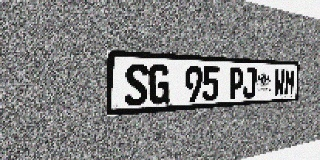5: (202, 66, 219, 101)
9: (185, 65, 203, 102)
G: (149, 64, 170, 105)
J: (243, 67, 256, 99)
M: (284, 69, 295, 96)
P: (229, 67, 243, 99)
S: (125, 63, 148, 106)
W: (274, 68, 285, 97)
